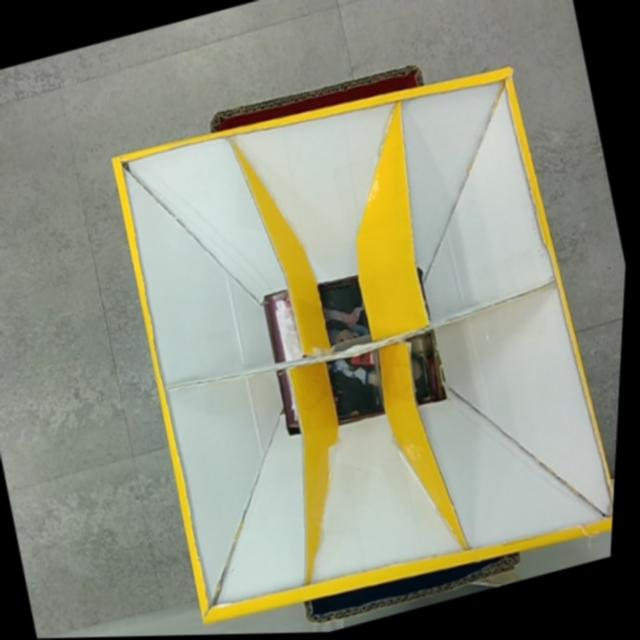box: (86, 29, 638, 638)
